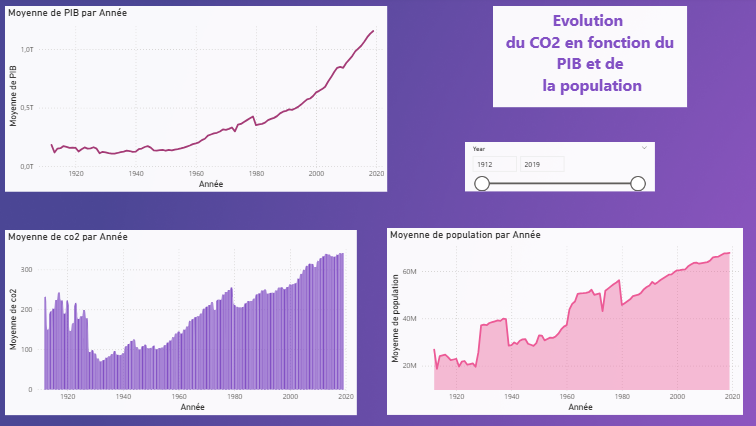

What the dashboard file says about the page in this screenshot:
{"tool":"powerbi","page":{"name":"Croissance temporelle","canvas":[1280,720],"ordinal":1},"visuals":[{"type":"ribbonChart","fields":{"Category":["Calendrier.Year"],"Y":["Avg(Emissions CO2.co2)"]},"box":[18.5,391.4,591.3,310.8],"z":0},{"type":"lineChart","fields":{"Y":["Avg(Emissions CO2.PIB)"],"Category":["Calendrier.Year"]},"box":[18.5,15.1,641.7,312.4],"z":1000},{"type":"areaChart","fields":{"Category":["Calendrier.Year"],"Y":["Avg(Emissions CO2.population)"]},"box":[660.2,388,598,314.1],"z":2000},{"type":"textbox","box":[838.2,15.1,325.9,169.7],"z":3000},{"type":"slicer","fields":{"Values":["Calendrier.Year"]},"box":[791.7,244.4,319,83.4],"z":4000}]}

Visuals, with their boxes in screenshot pixels (x1, y1, x2, y2), scaled from the page's 1280x720 canvas onto the 756x426 screenshot:
ribbonChart - Calendrier.Year x Avg(Emissions CO2.co2): (x1=11, y1=232, x2=360, y2=415)
lineChart - Avg(Emissions CO2.PIB) x Calendrier.Year: (x1=11, y1=9, x2=390, y2=194)
areaChart - Calendrier.Year x Avg(Emissions CO2.population): (x1=390, y1=230, x2=743, y2=415)
textbox: (x1=495, y1=9, x2=688, y2=109)
slicer - Calendrier.Year: (x1=468, y1=145, x2=656, y2=194)
